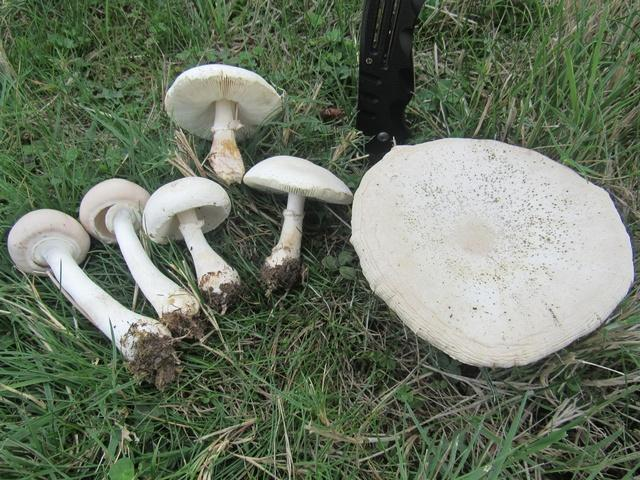poisonous_mushroom: (348, 136, 634, 369), (6, 207, 179, 391), (242, 154, 353, 292), (163, 62, 284, 185), (141, 175, 241, 313)
